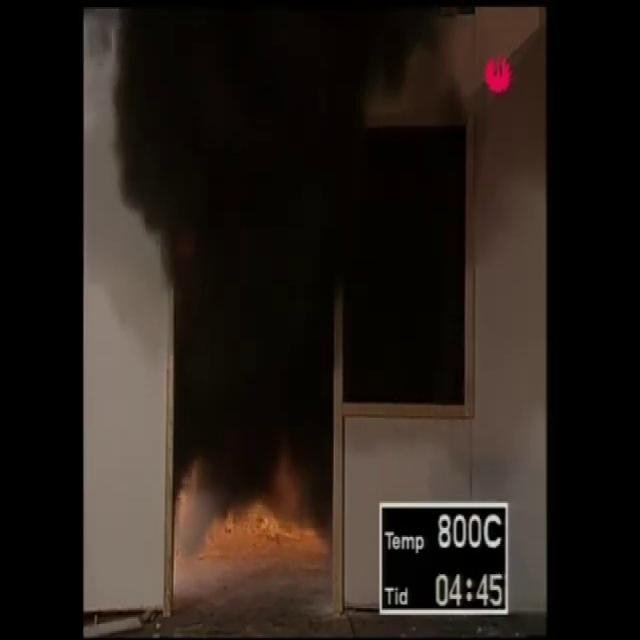Fire: (175, 484, 320, 554)
Smoke: (86, 8, 480, 479)
